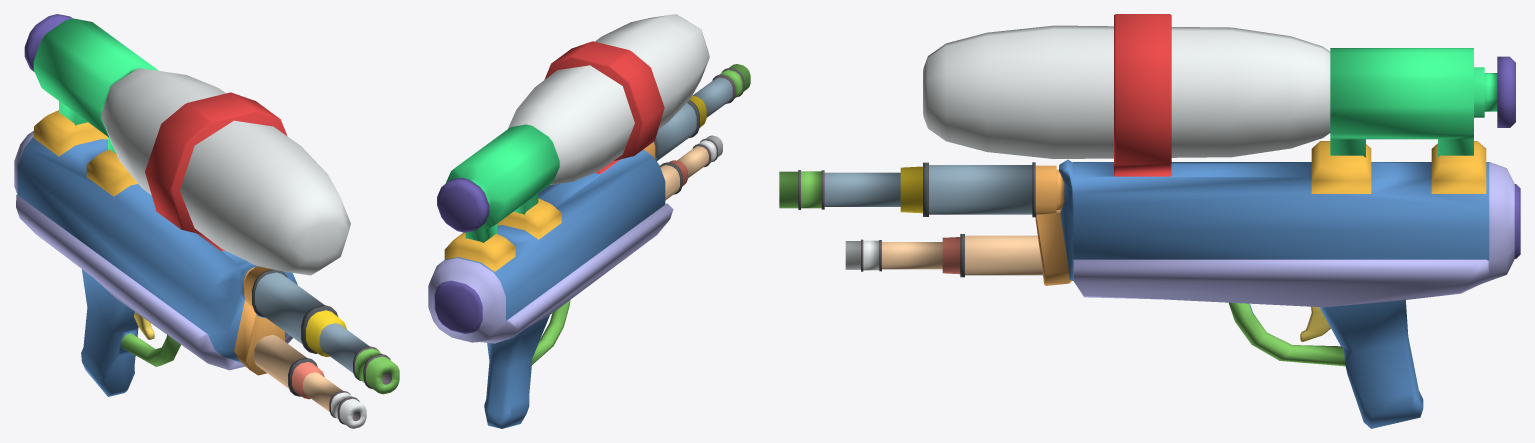
Rendered from Watergun12.fbx.
The picture shows the model from 3 angles, left to right: view 1: azimuth 30°, elevation 25°; view 2: azimuth 150°, elevation 25°; view 3: azimuth 270°, elevation 25°; orthographic projection. The views are drawn at different scales.
Visible parts, largest first — view 1: Watergun12; view 2: Watergun12; view 3: Watergun12.
Boxes of the visible parts, box(x1,y1,x2,y2) form: Watergun12: box(14, 14, 399, 428); Watergun12: box(428, 14, 750, 428); Watergun12: box(779, 14, 1520, 428).
Bounding box in the file's own units: 0.0908 × 0.2484 × 0.4187.
